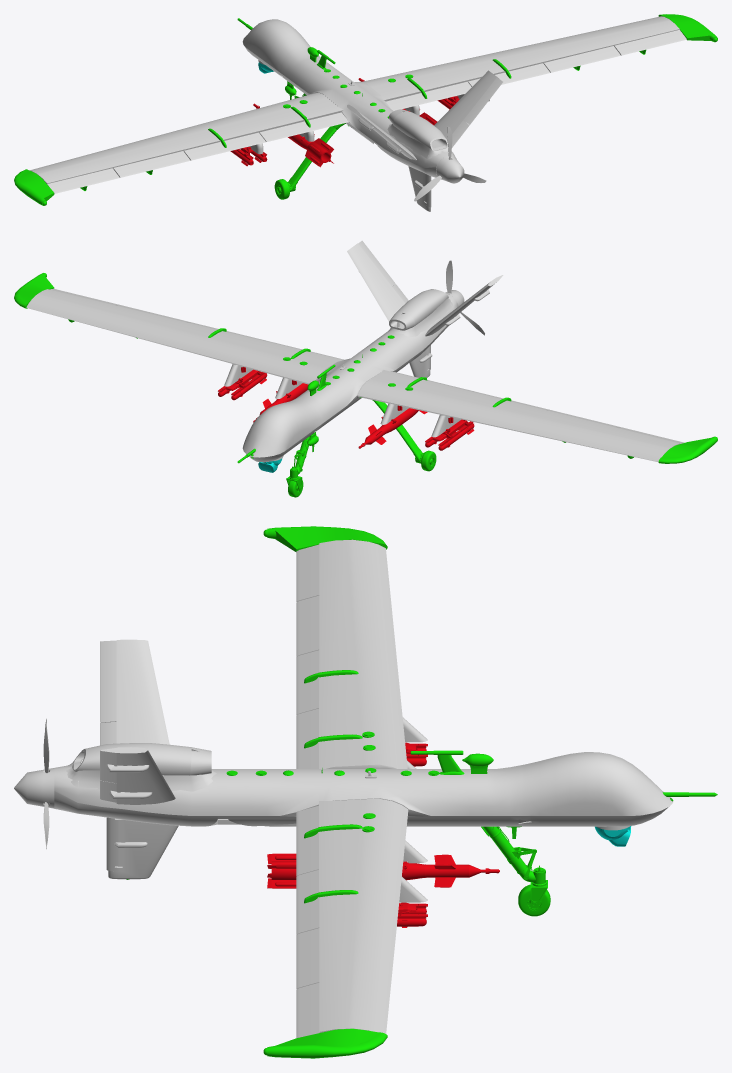
File: texture.fbx
3 renders of one model, top to bottom at view 1: azimuth 30°, elevation 25°; view 2: azimuth 150°, elevation 25°; view 3: azimuth 270°, elevation 25°, orthographic. The views are drawn at different scales.
Parts seen in each view (by area): view 1: 004_low, 1_low, 015_low, 117_low, 013_low, 007_low, 119_low, 027_low, 051_low, 006_low, 014_low, 034_low; view 2: 004_low, 1_low, 013_low, 117_low, 014_low, 015_low, 060_low, 040_low, 058_low, 007_low; view 3: 004_low, 1_low, 015_low, 013_low, 117_low, 007_low, 006_low, 119_low, 014_low, 017_low, 005_low.
Boxes of the visible parts, <box> form: 004_low: <box>30,16,679,183</box>; 1_low: <box>242,19,456,179</box>; 015_low: <box>47,30,686,193</box>; 117_low: <box>14,14,717,205</box>; 013_low: <box>347,70,498,159</box>; 007_low: <box>356,77,502,160</box>; 119_low: <box>436,156,464,183</box>; 027_low: <box>414,127,486,201</box>; 051_low: <box>305,112,437,167</box>; 006_low: <box>408,166,430,211</box>; 014_low: <box>248,94,464,154</box>; 034_low: <box>292,126,337,181</box>; 004_low: <box>26,289,679,462</box>; 1_low: <box>242,289,458,462</box>; 013_low: <box>347,243,498,336</box>; 117_low: <box>15,273,717,463</box>; 014_low: <box>224,364,461,437</box>; 015_low: <box>49,288,684,443</box>; 060_low: <box>218,369,473,446</box>; 040_low: <box>276,383,418,433</box>; 058_low: <box>218,373,474,450</box>; 007_low: <box>358,240,503,303</box>; 004_low: <box>319,539,408,1033</box>; 1_low: <box>54,743,673,830</box>; 015_low: <box>296,544,319,1038</box>; 013_low: <box>116,639,175,804</box>; 117_low: <box>267,526,387,1058</box>; 007_low: <box>100,640,116,802</box>; 006_low: <box>108,820,178,879</box>; 119_low: <box>14,768,54,808</box>; 014_low: <box>399,717,427,902</box>; 017_low: <box>318,670,362,897</box>; 005_low: <box>106,817,122,871</box>.
Size of the model in its own units: 790 by 155 by 448.
